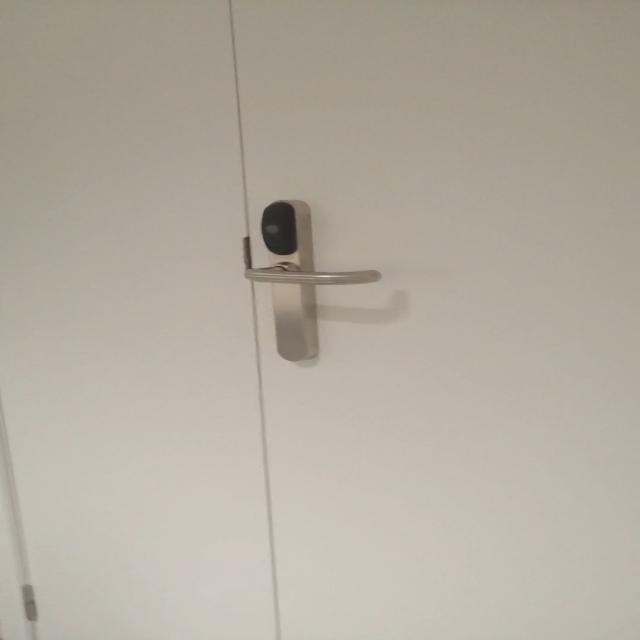door_handle: (234, 259, 388, 289)
